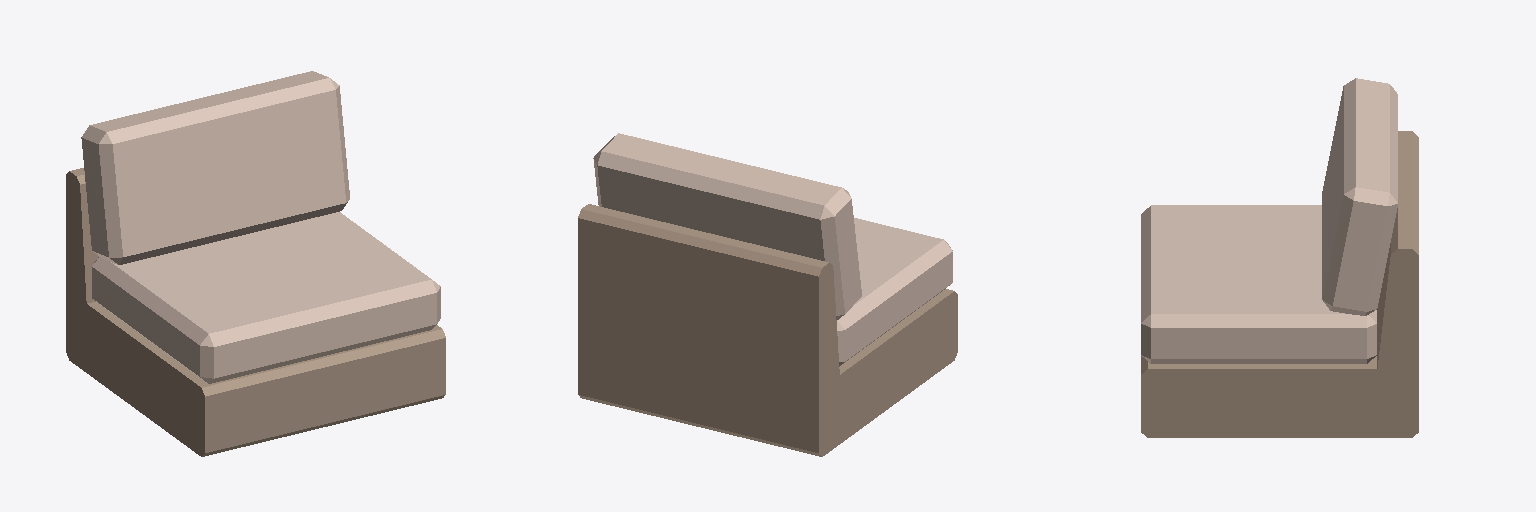
The model's file is Prop_Living_Room_Modular_Couch_Center.obj.
The picture shows the model from 3 angles: view 1: azimuth 30°, elevation 25°; view 2: azimuth 150°, elevation 25°; view 3: azimuth 270°, elevation 25°; orthographic projection.
Parts seen in each view (by area): view 1: object1, object3, object2; view 2: object2, object3, object1; view 3: object1, object2, object3.
Boxes of the visible parts, x1=… form: object1: x1=92, y1=212, x2=440, y2=383; object3: x1=81, y1=71, x2=349, y2=264; object2: x1=66, y1=168, x2=445, y2=456; object2: x1=578, y1=204, x2=957, y2=456; object3: x1=593, y1=133, x2=861, y2=319; object1: x1=837, y1=218, x2=952, y2=366; object1: x1=1141, y1=205, x2=1376, y2=363; object2: x1=1141, y1=131, x2=1418, y2=437; object3: x1=1322, y1=78, x2=1397, y2=315.
Bounding box in the file's own units: 1 × 0.9777 × 1.